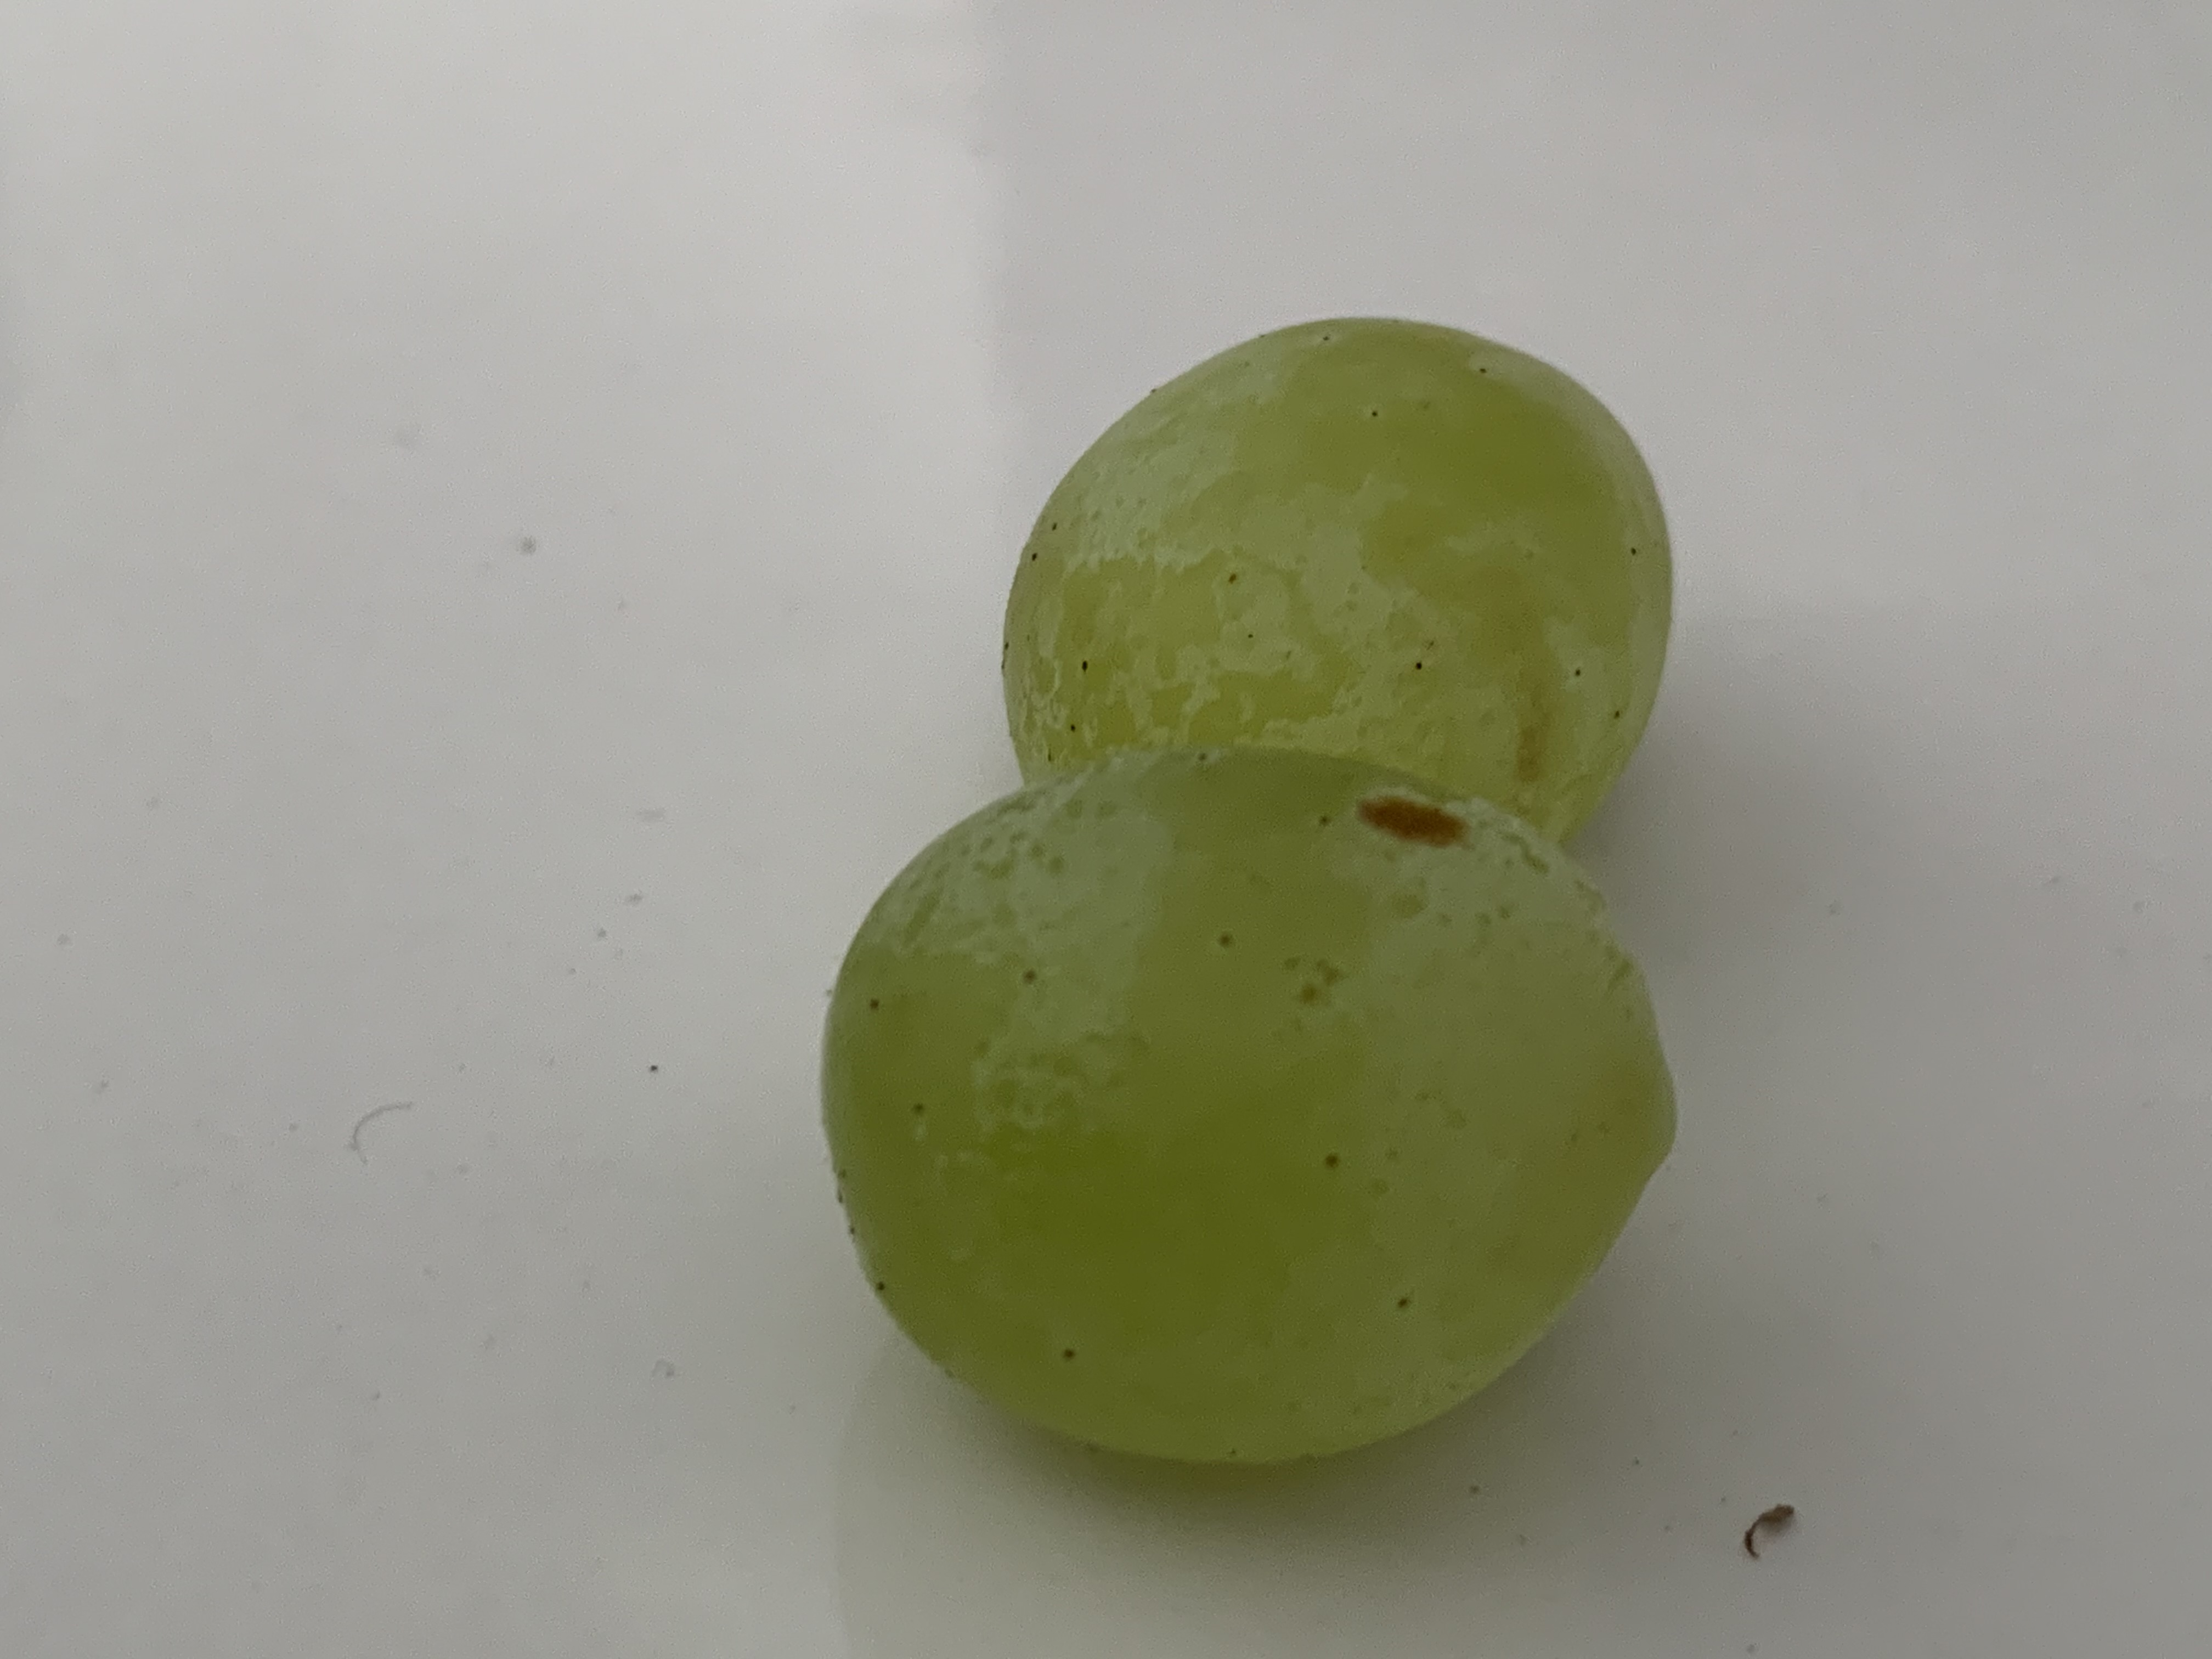grapes: (824, 824, 1665, 1443), (948, 331, 1681, 779)
